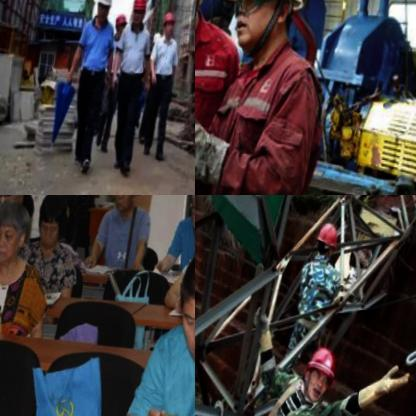head: (174, 251, 195, 370), (0, 198, 33, 267), (34, 195, 70, 255), (109, 195, 145, 218), (185, 195, 195, 232)
helmet: (215, 0, 318, 78), (301, 348, 339, 405), (315, 223, 344, 261), (94, 0, 114, 29), (131, 0, 148, 34), (160, 11, 177, 43), (114, 12, 129, 42)
